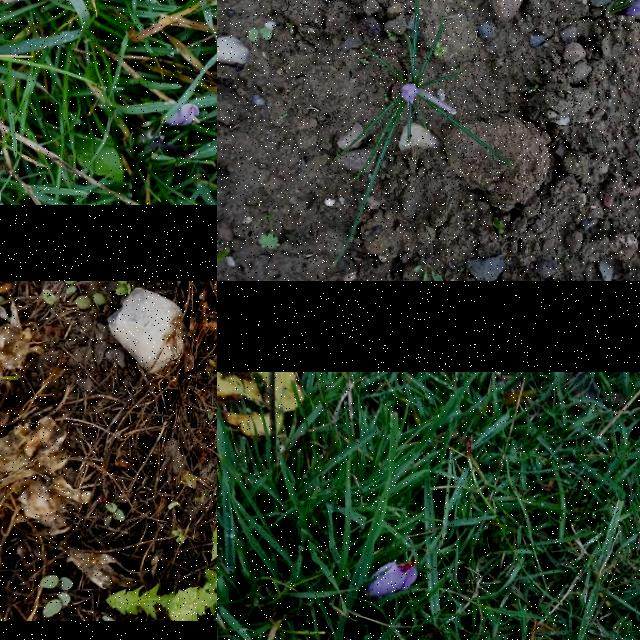flower: (368, 561, 418, 599), (400, 84, 418, 104), (620, 0, 640, 16)
